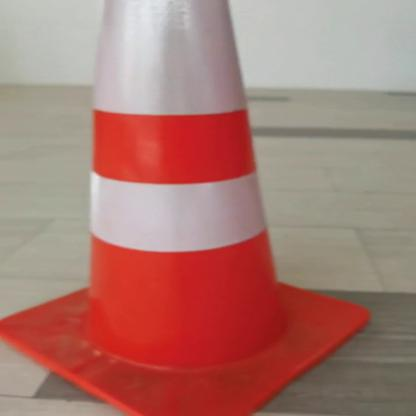cone: (0, 0, 375, 416)
